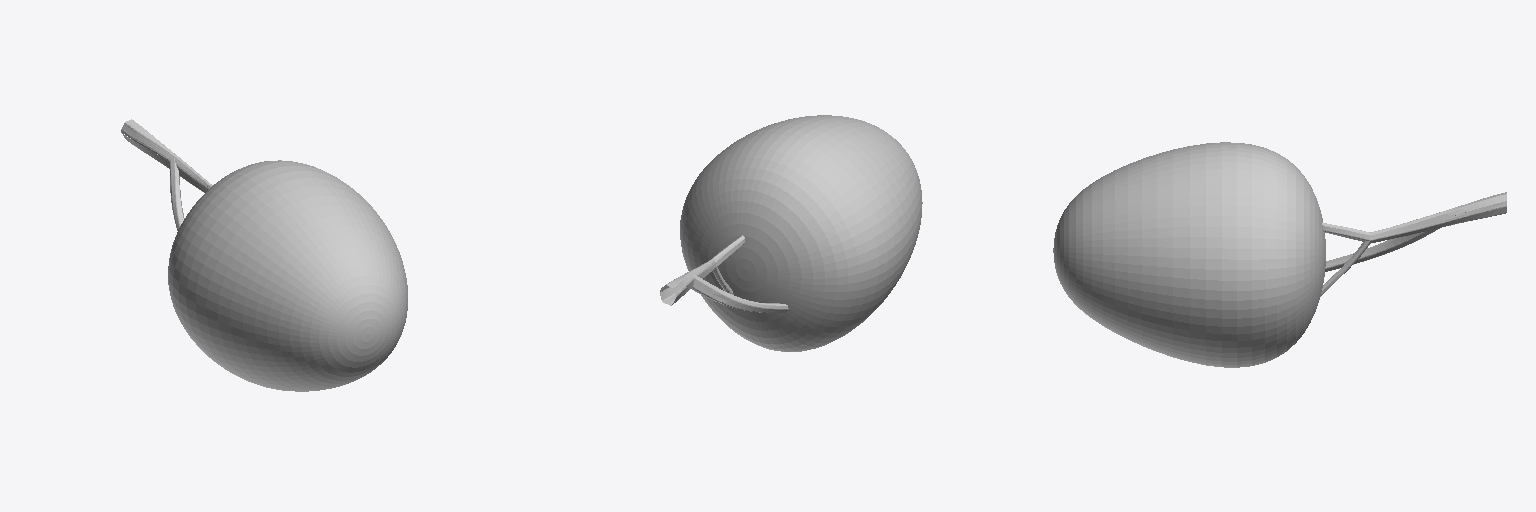
File: Tree1.obj
3 renders of one model, left to right at view 1: azimuth 30°, elevation 25°; view 2: azimuth 150°, elevation 25°; view 3: azimuth 270°, elevation 25°, orthographic.
Size of the model in its own units: 0.6947 by 0.7 by 1.38.